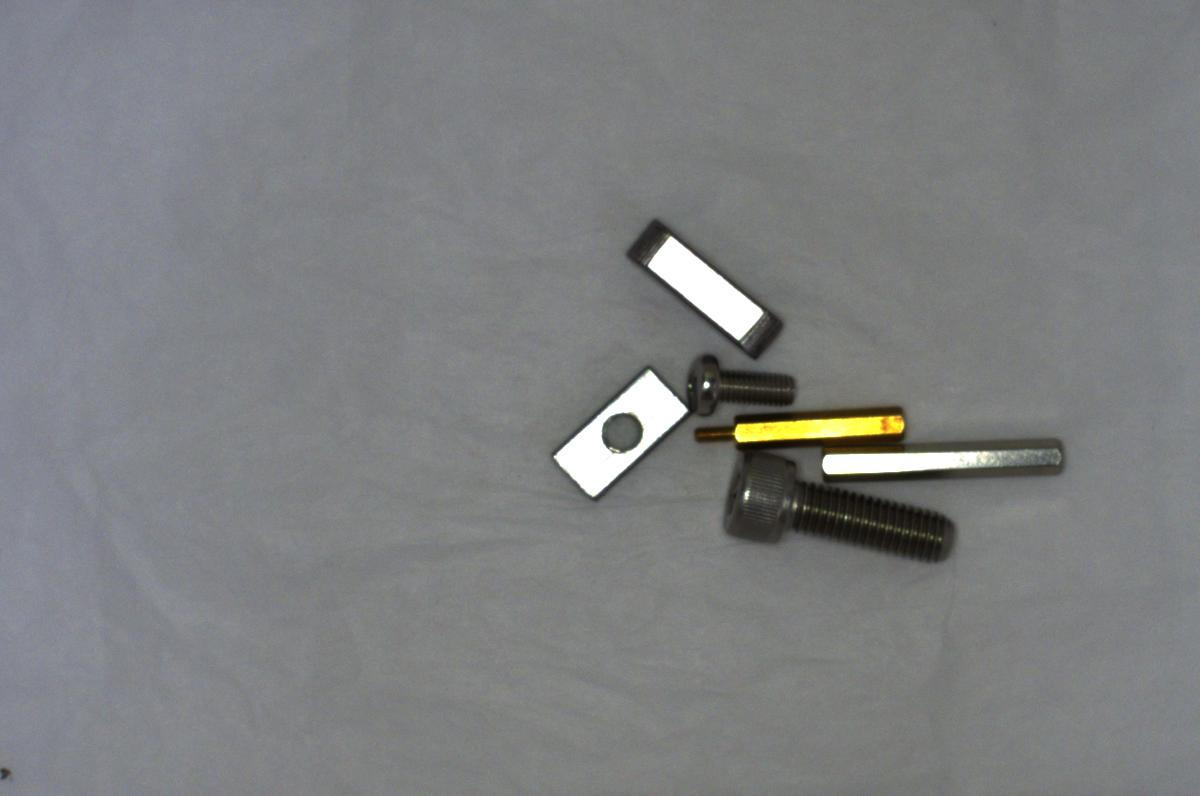Double hexagonal column: (815, 436, 1085, 491)
Hexagon pillar: (687, 396, 912, 449)
Hexagon screw: (711, 445, 969, 569)
Keybar: (620, 205, 794, 360)
Rectangular nut: (526, 360, 687, 501)
Round head screw: (680, 345, 805, 419)
